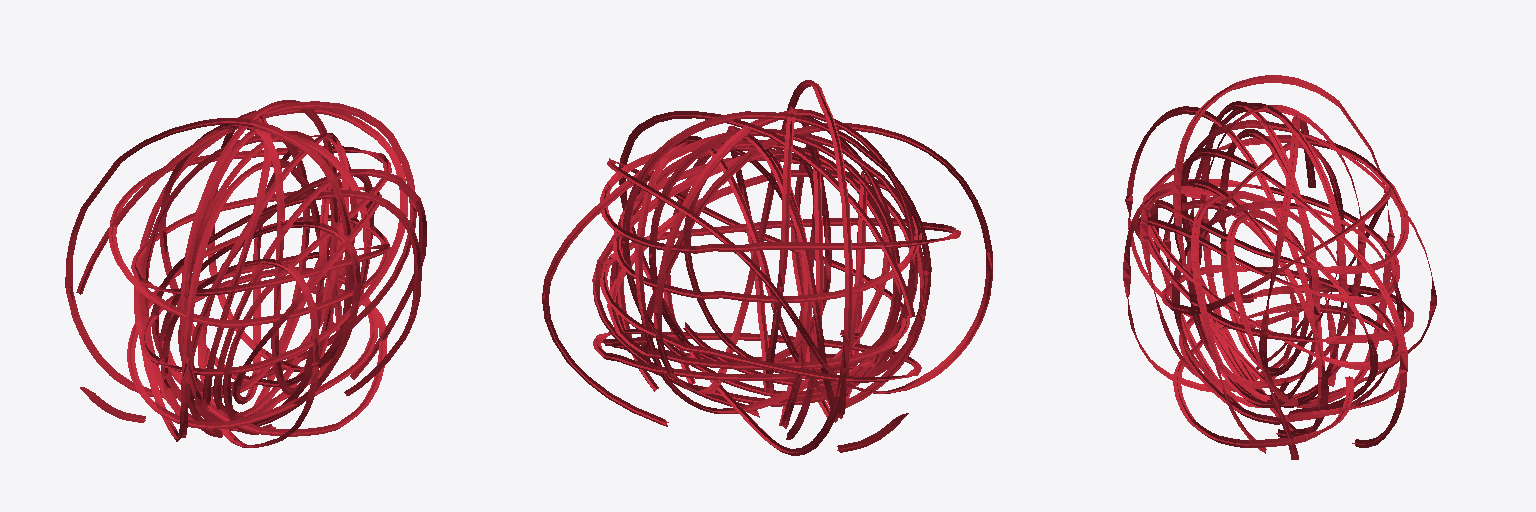
3 renders of one model, left to right at view 1: azimuth 30°, elevation 25°; view 2: azimuth 150°, elevation 25°; view 3: azimuth 270°, elevation 25°, orthographic.
Bounding box in the file's own units: 0.9503 × 0.8859 × 0.7885.
1 materials, 1 textured.